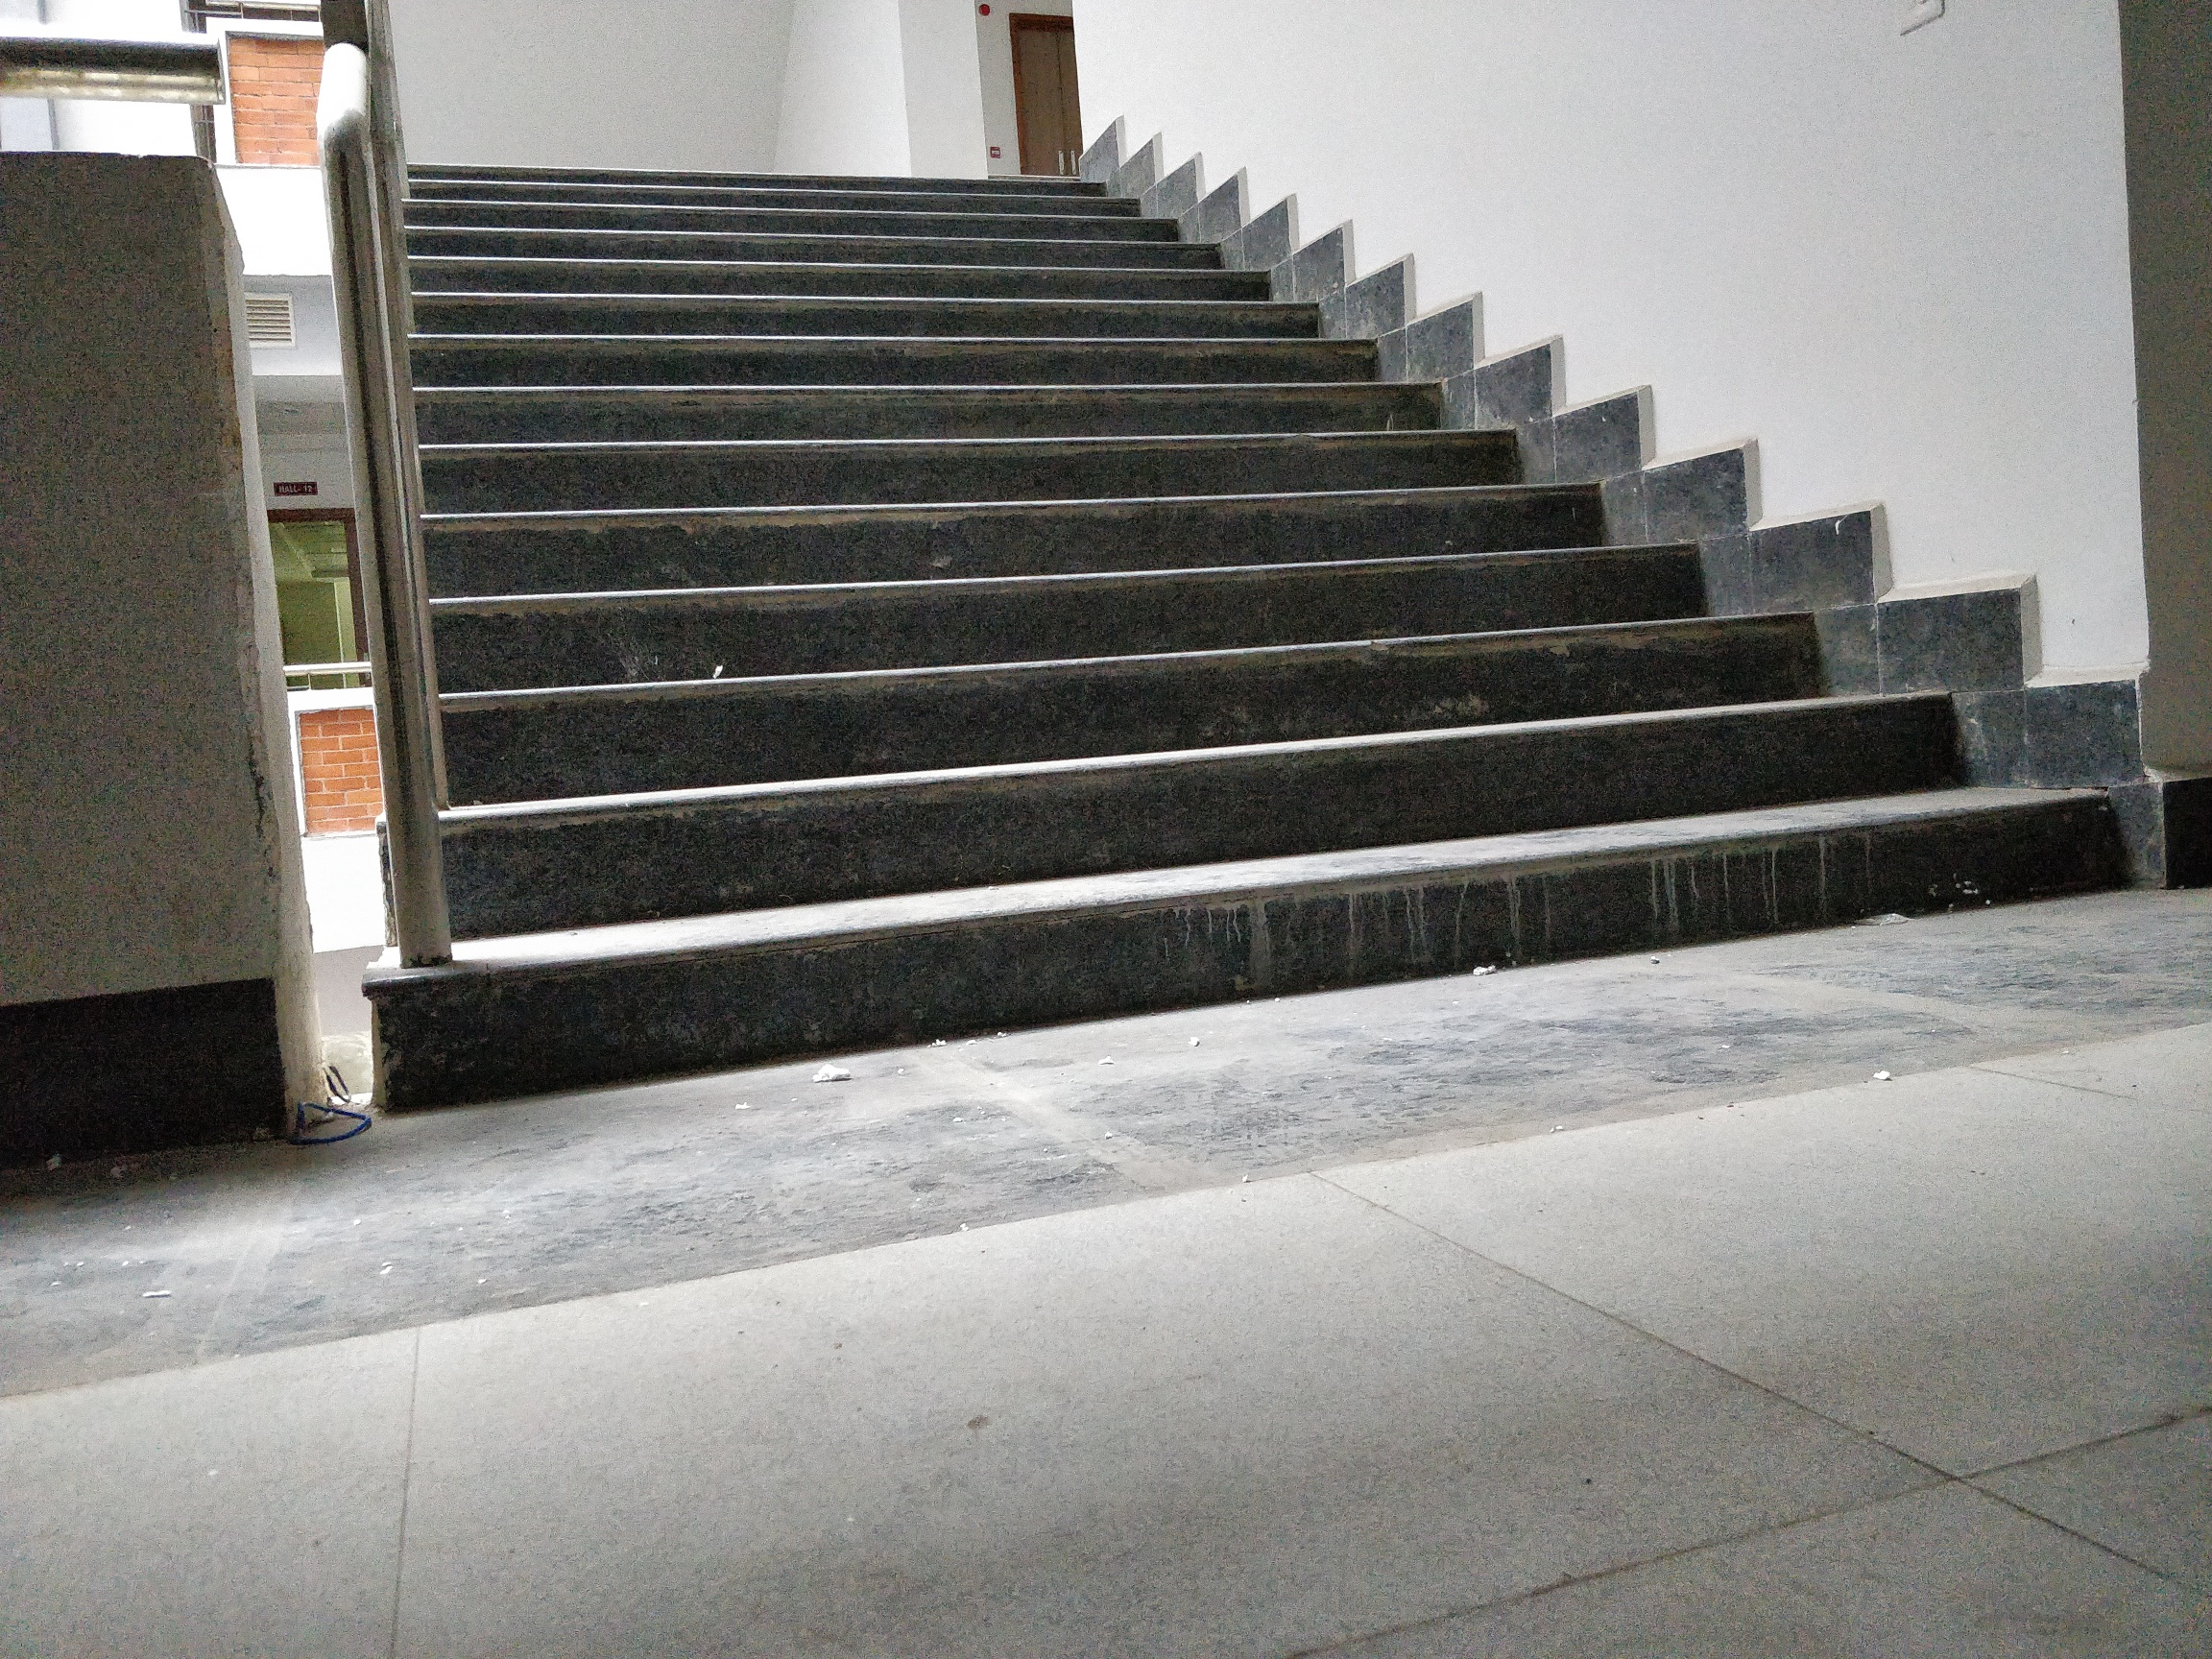stairs_up: (373, 160, 1956, 990)
